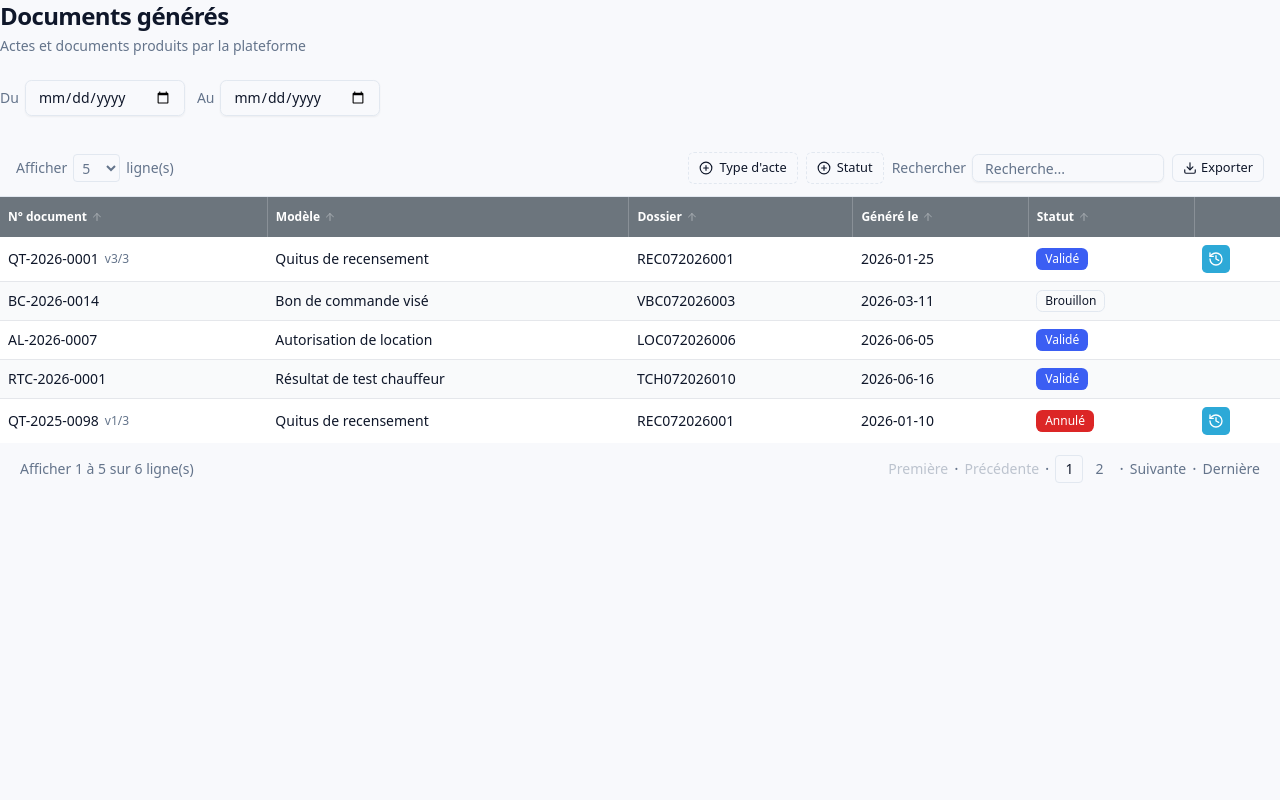
it: DocumentsPage — versioning des documents › ouvre le dialog et affiche les 3 versions de la famille
The image size is (1280, 800).
Click the button with test id "document-versions-button-doc-1". click: (1216, 259)
box: [1202,245,1230,273]
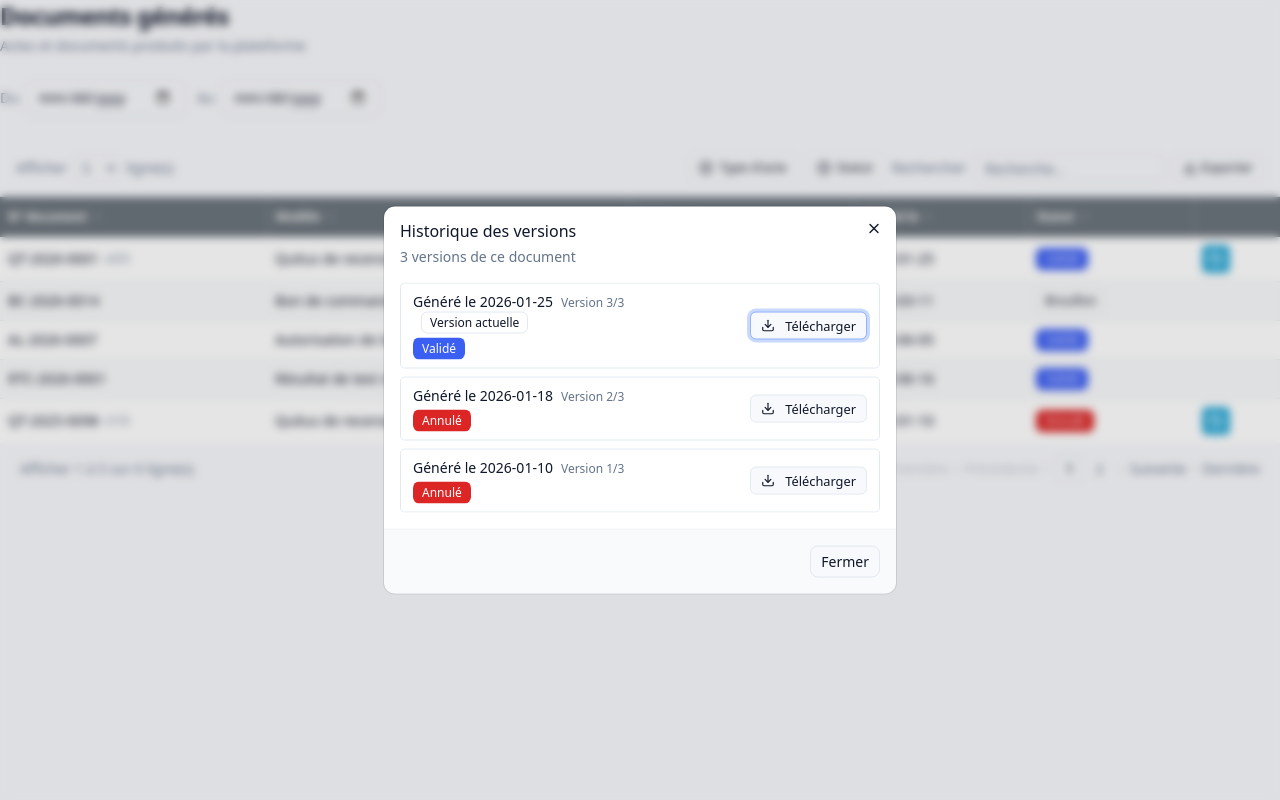
Result: the list item with test id "document-version-row-doc-1" is shown at [400,282,880,368]
Result: the list item with test id "document-version-row-doc-5" is shown at [400,448,880,512]
Result: the list item with test id "document-version-row-doc-6" is shown at [400,376,880,440]
